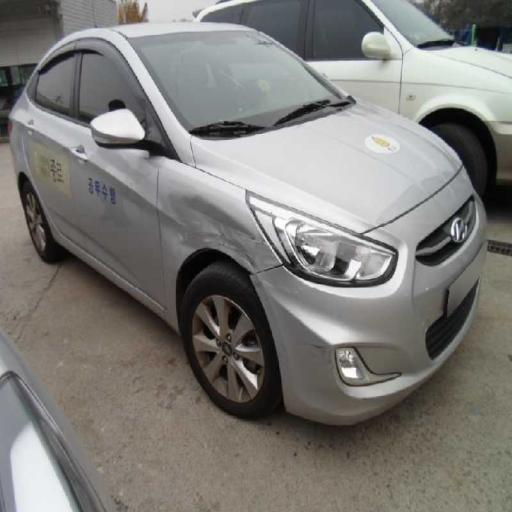dent: (174, 187, 287, 310)
